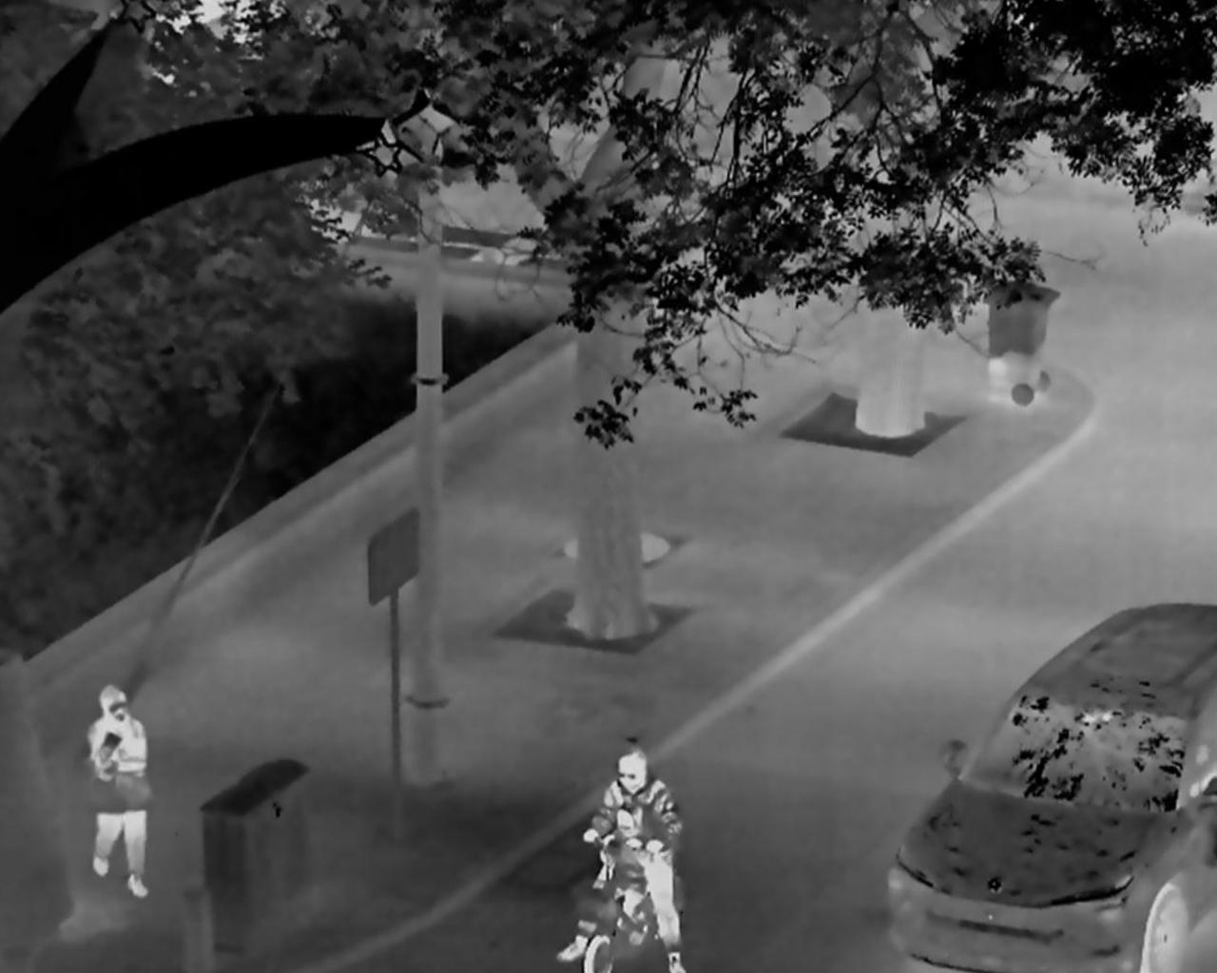person: (555, 747, 687, 973), (84, 682, 153, 899), (597, 802, 652, 946)
